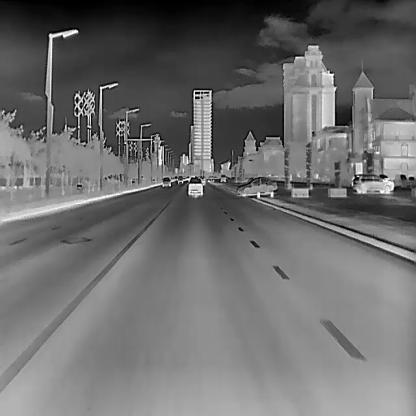car: (236, 177, 277, 196), (352, 173, 390, 193), (187, 176, 202, 197), (162, 176, 170, 186), (220, 174, 226, 182), (178, 174, 182, 184)
